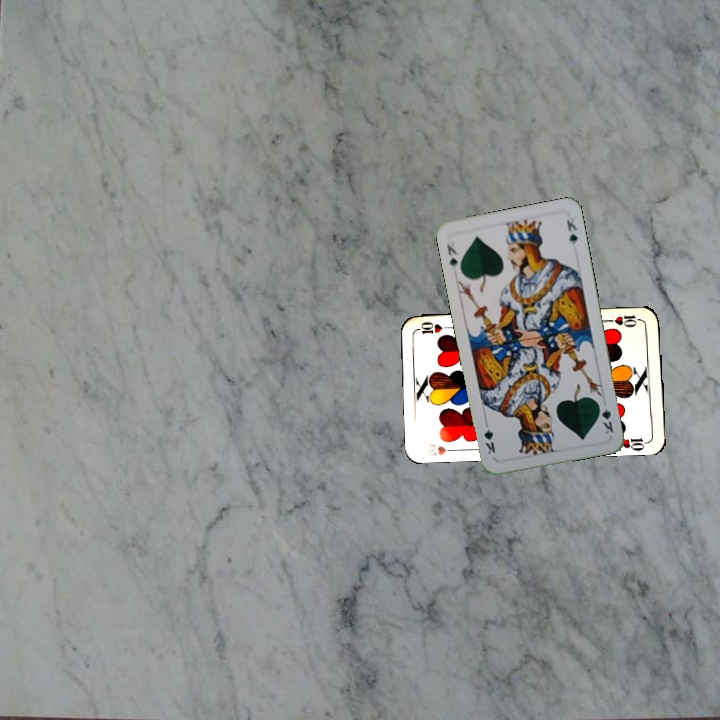GK: (594, 398, 616, 437), (443, 240, 460, 275)
H10: (604, 311, 644, 330), (422, 439, 460, 458)
